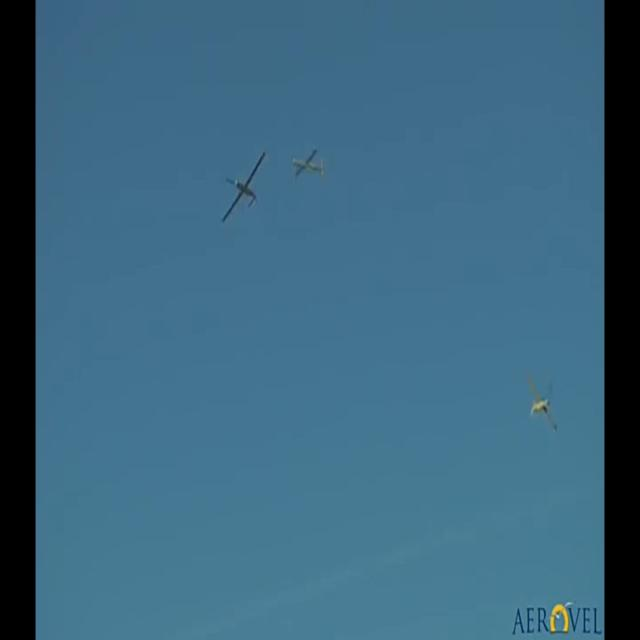iha: (289, 148, 326, 185), (221, 186, 266, 189), (525, 401, 559, 403)
